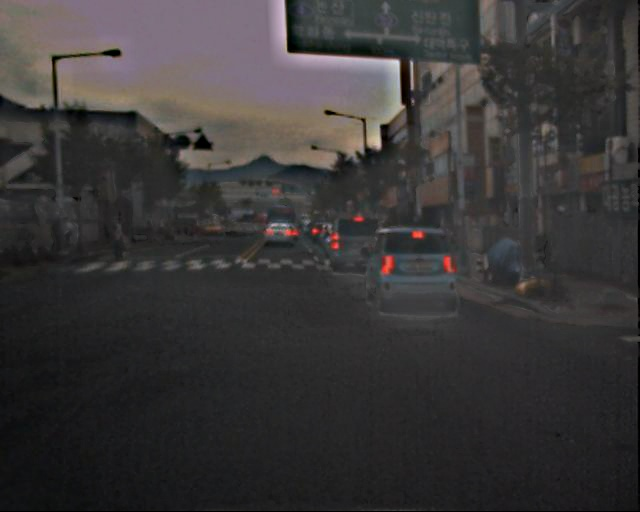person: (51, 214, 84, 254), (108, 222, 128, 262)
